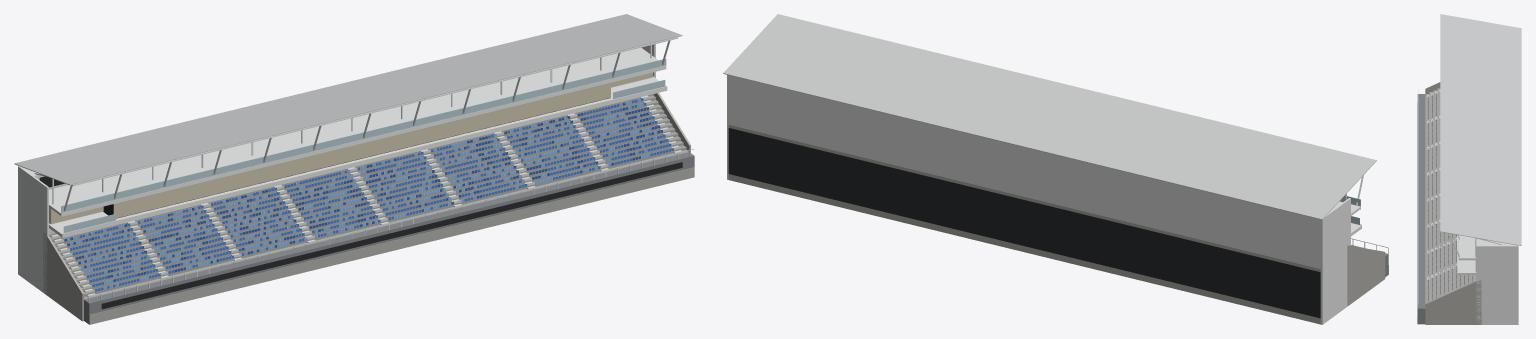
File: spo_stand_b_c.glb
3 renders of one model, left to right at view 1: azimuth 30°, elevation 25°; view 2: azimuth 150°, elevation 25°; view 3: azimuth 270°, elevation 25°, orthographic. The views are drawn at different scales.
Parts seen in each view (by area): view 1: sao-paulo-sector-b; view 2: sao-paulo-sector-b; view 3: sao-paulo-sector-b.
Part boxes in pixels (x1,y1,x2,y2): sao-paulo-sector-b: (14,14,694,324); sao-paulo-sector-b: (723,14,1388,324); sao-paulo-sector-b: (1417,14,1521,324).
Bounding box in the file's own units: 102 × 20.6 × 20.68.
